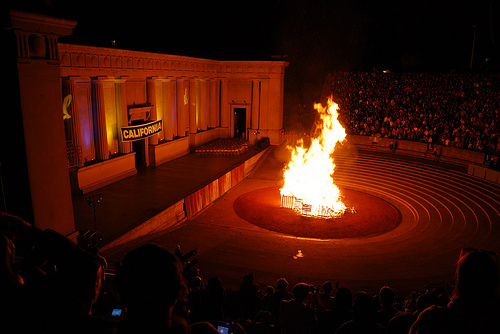fire: (279, 98, 348, 214)
